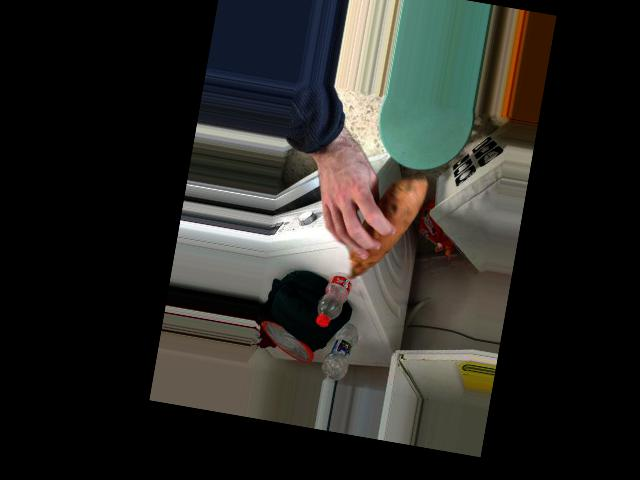sweet_potato: (329, 183, 423, 281)
